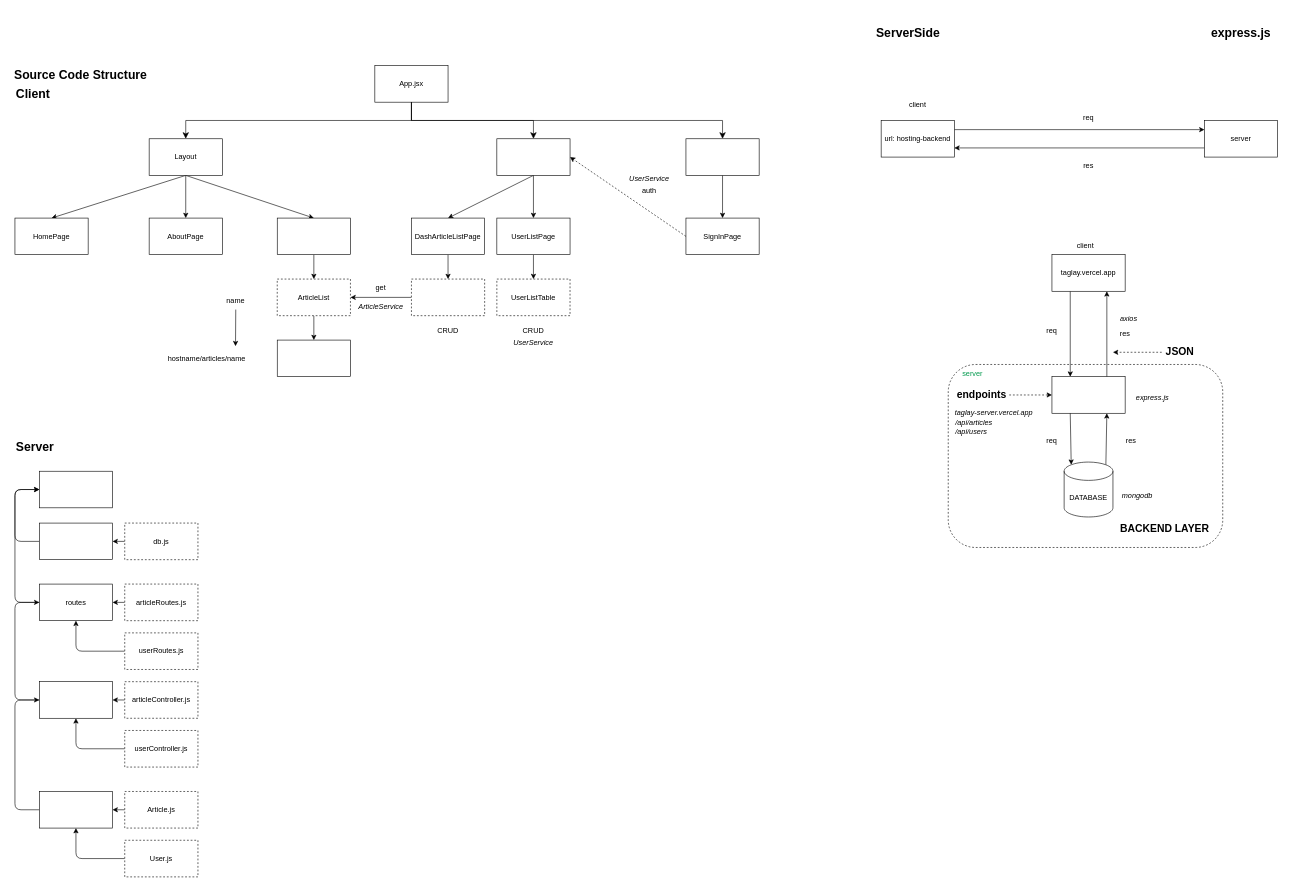
This 1301x888 diagram has some shape labels left out. The shapes that lost their labels are listed below. From the top down, each one's box as (x1, y1, x2, y2) in pixels, then its label:
(496, 138, 570, 175): DashLayout
(685, 138, 759, 175): AuthLayout
(277, 217, 350, 255): ArticleListPage
(411, 278, 485, 316): ArticleListTable
(277, 339, 350, 377): ArticlePage
(1051, 376, 1125, 413): API
(39, 471, 113, 508): index.js
(39, 522, 113, 560): config
(39, 681, 113, 718): controllers
(39, 791, 113, 828): models
